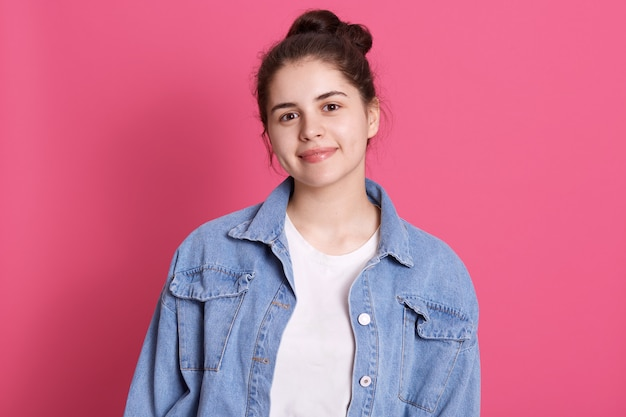teen: (247, 11, 380, 198)
